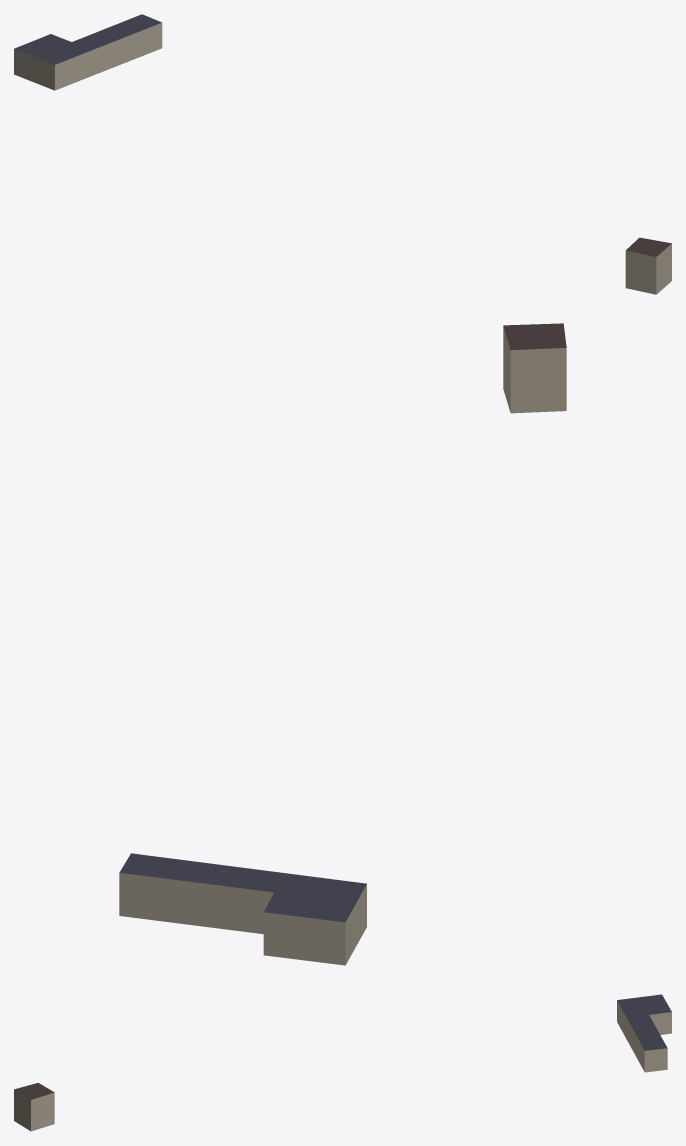
3 renders of one model, top to bottom at view 1: azimuth 30°, elevation 25°; view 2: azimuth 150°, elevation 25°; view 3: azimuth 270°, elevation 25°, orthographic. The views are drawn at different scales.
Visible parts, largest first — view 1: tuile; view 2: tuile; view 3: tuile.
Boxes of the visible parts, box(x1,y1,x2,y2) form: tuile: box(14, 14, 671, 294); tuile: box(119, 323, 566, 965); tuile: box(14, 994, 671, 1131).
Size of the model in its own units: 38.2 by 4.87 by 92.
